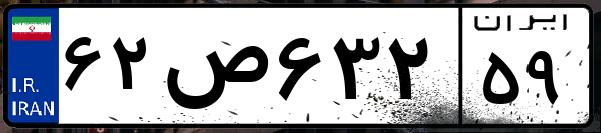2: (385, 28, 445, 110), (110, 28, 158, 98)
3: (330, 28, 385, 110)
5: (475, 38, 525, 113)
6: (270, 28, 330, 110), (57, 26, 110, 100)
9: (525, 38, 570, 115)
ص: (158, 20, 270, 120)
